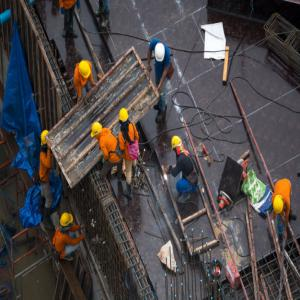white: (155, 44, 166, 64)
yellow: (61, 211, 74, 232), (79, 62, 92, 80), (172, 135, 183, 154), (41, 131, 51, 149), (93, 123, 103, 141), (274, 197, 284, 215), (120, 110, 129, 126)
